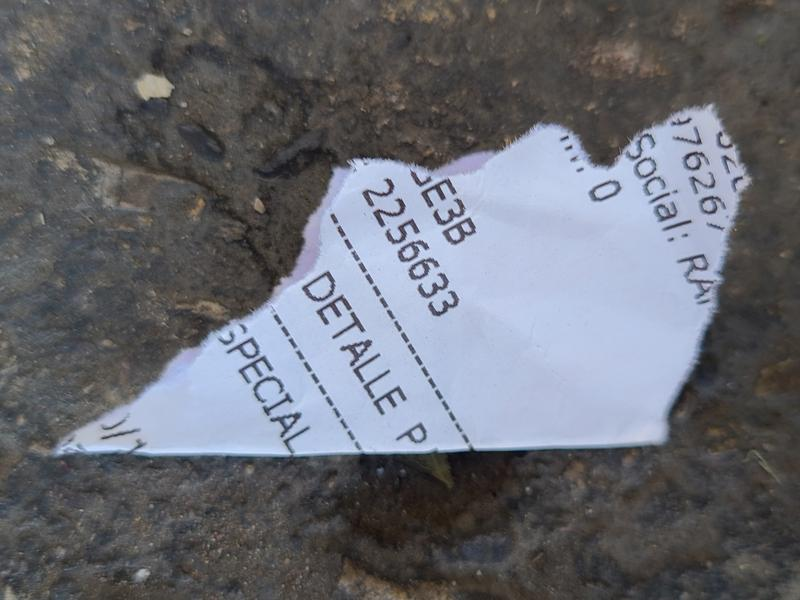papel: (51, 105, 748, 460)
